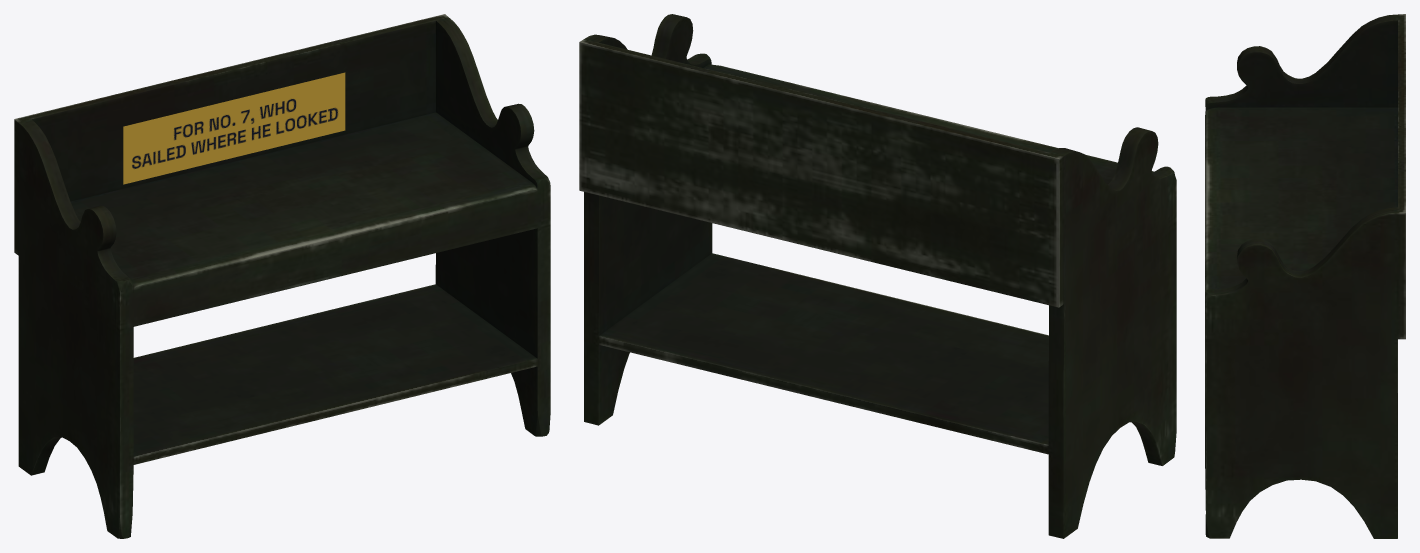
The model's file is nyb_stuart_bench.glb.
3 renders of one model, left to right at view 1: azimuth 30°, elevation 25°; view 2: azimuth 150°, elevation 25°; view 3: azimuth 270°, elevation 25°, orthographic. The views are drawn at different scales.
Visible parts, largest first — view 1: painted_wooden_bench, stk_lbl_81075f5284.png; view 2: painted_wooden_bench; view 3: painted_wooden_bench.
Part boxes in pixels (x1,y1,x2,y2): painted_wooden_bench: (14, 14, 550, 538); stk_lbl_81075f5284.png: (123, 72, 345, 184); painted_wooden_bench: (579, 14, 1176, 538); painted_wooden_bench: (1205, 14, 1405, 538).
Bounding box in the file's own units: 1.16 × 0.8893 × 0.4965.
2 materials, 2 textured.
